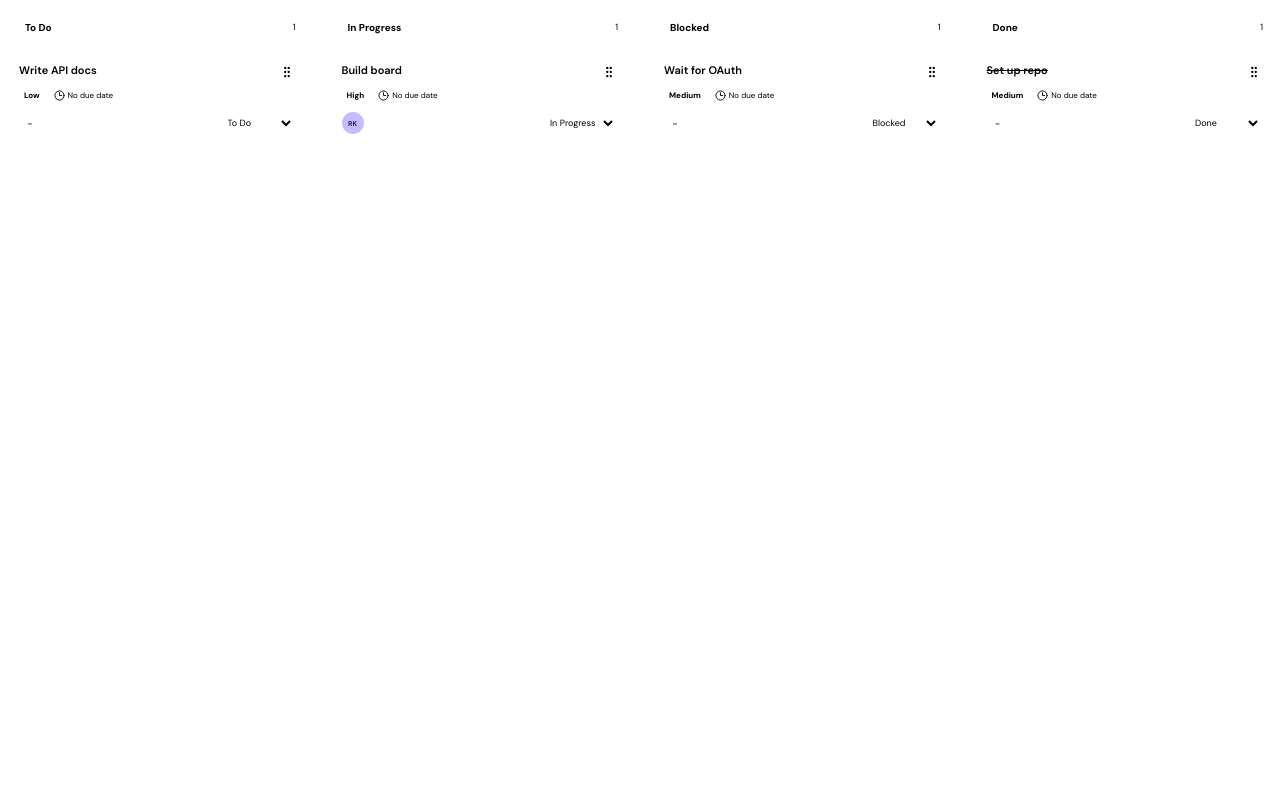
Test: KanbanBoard: US-28 move tasks › puts the card back and shows an error when the server rejects the move
Select "Blocked" in the dropdown named "Move Write API docs to": (256, 123) [220, 111, 294, 135]
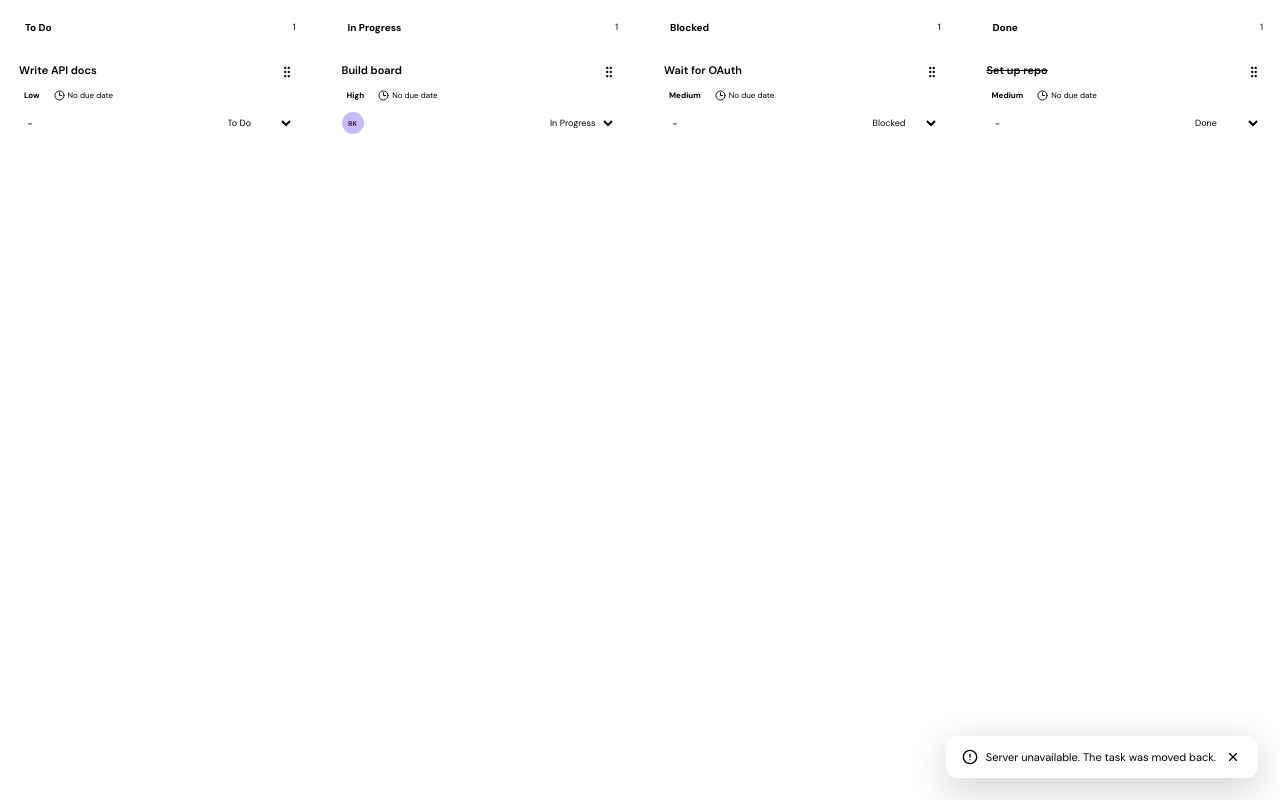
Expected: the text "To Do" is shown, [25, 20, 52, 34]
Expected: the message shows "Server unavailable.", [986, 750, 1216, 764]
